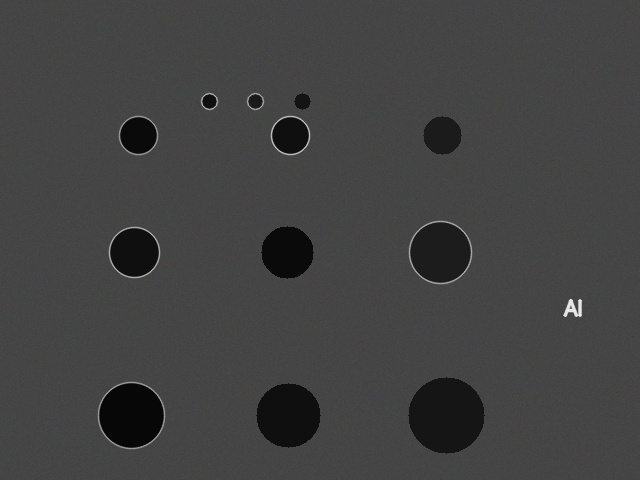hole: (408, 377, 484, 453), (98, 382, 164, 448), (256, 383, 320, 447), (409, 221, 471, 283), (261, 226, 313, 278), (109, 227, 159, 277), (119, 116, 157, 154), (271, 116, 309, 154), (423, 116, 461, 154), (201, 93, 217, 109), (247, 93, 263, 109), (294, 93, 310, 109)
